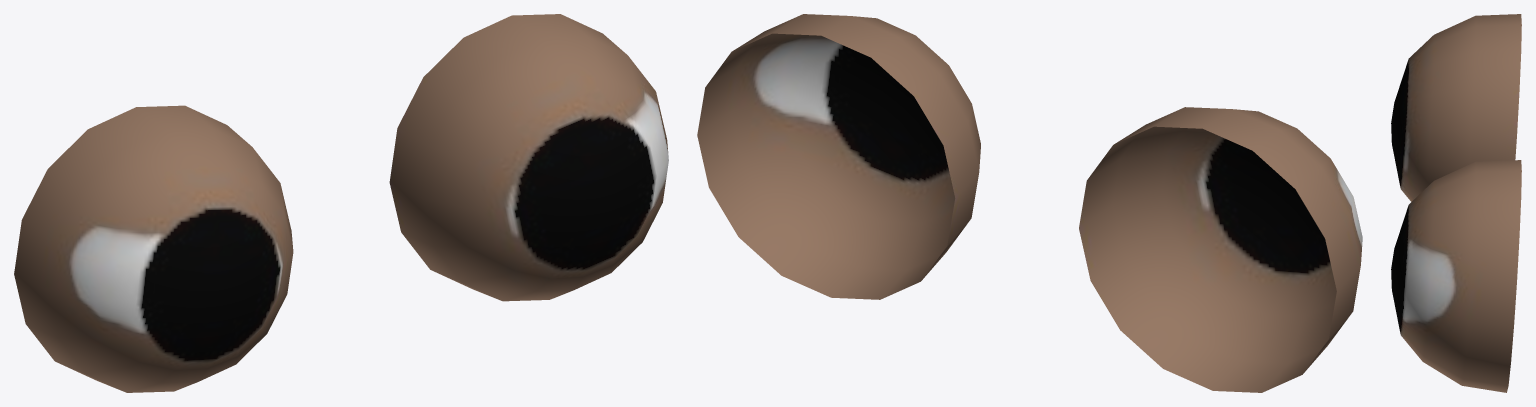
File: ARM1_Eyes_A01.glb
3 views of the same model, side by side, from view 1: azimuth 30°, elevation 25°; view 2: azimuth 150°, elevation 25°; view 3: azimuth 270°, elevation 25° (orthographic). The views are drawn at different scales.
Visible parts, largest first — view 1: ARM1_Eyes_A01; view 2: ARM1_Eyes_A01; view 3: ARM1_Eyes_A01.
Part boxes in pixels (left/top/right/bottom): ARM1_Eyes_A01: left=14, top=14, right=668, bottom=392; ARM1_Eyes_A01: left=697, top=14, right=1362, bottom=392; ARM1_Eyes_A01: left=1391, top=14, right=1521, bottom=392.
Bounding box in the file's own units: 0.5344 × 0.2151 × 0.1206.
1 material, 1 textured.
